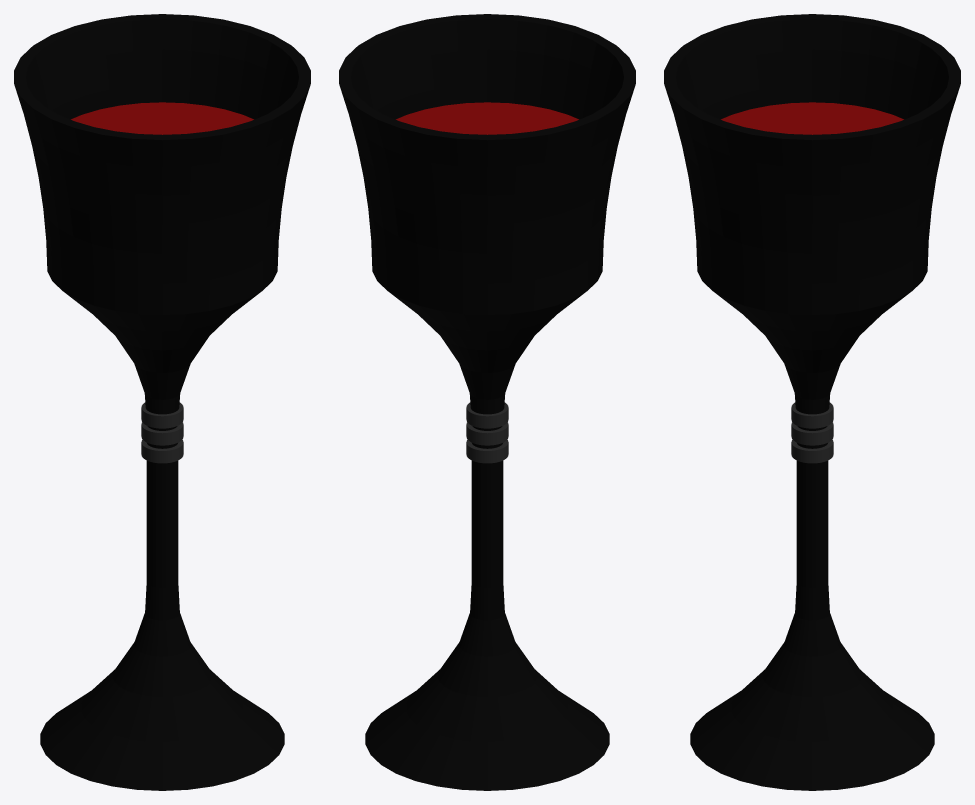
The model's file is бокал3.fbx.
The picture shows the model from 3 angles, left to right: view 1: azimuth 30°, elevation 25°; view 2: azimuth 150°, elevation 25°; view 3: azimuth 270°, elevation 25°; orthographic projection.
Visible parts, largest first — view 1: Цилиндр_1, Цилиндр, Цилиндр_1_1, Цилиндр_3, Цилиндр_2; view 2: Цилиндр_1, Цилиндр, Цилиндр_1_1, Цилиндр_3, Цилиндр_2; view 3: Цилиндр_1, Цилиндр, Цилиндр_1_1, Цилиндр_3, Цилиндр_2.
Boxes of the visible parts, <box> form: Цилиндр_1: <box>14,14,310,790</box>; Цилиндр: <box>71,102,253,134</box>; Цилиндр_1_1: <box>141,402,183,428</box>; Цилиндр_3: <box>141,440,183,463</box>; Цилиндр_2: <box>141,422,183,445</box>; Цилиндр_1: <box>339,14,635,790</box>; Цилиндр: <box>396,102,578,134</box>; Цилиндр_1_1: <box>466,402,508,428</box>; Цилиндр_3: <box>466,440,508,463</box>; Цилиндр_2: <box>466,422,508,445</box>; Цилиндр_1: <box>664,14,960,790</box>; Цилиндр: <box>721,102,903,134</box>; Цилиндр_1_1: <box>791,402,833,428</box>; Цилиндр_3: <box>791,440,833,463</box>; Цилиндр_2: <box>791,422,833,445</box>.
Size of the model in its own units: 21.72 by 53.14 by 21.6.
